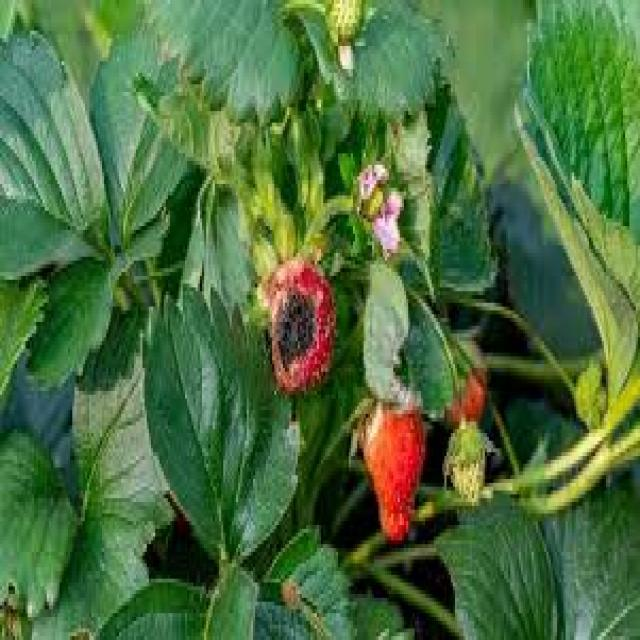Mancha negra Antracnosis: (262, 244, 336, 411)
